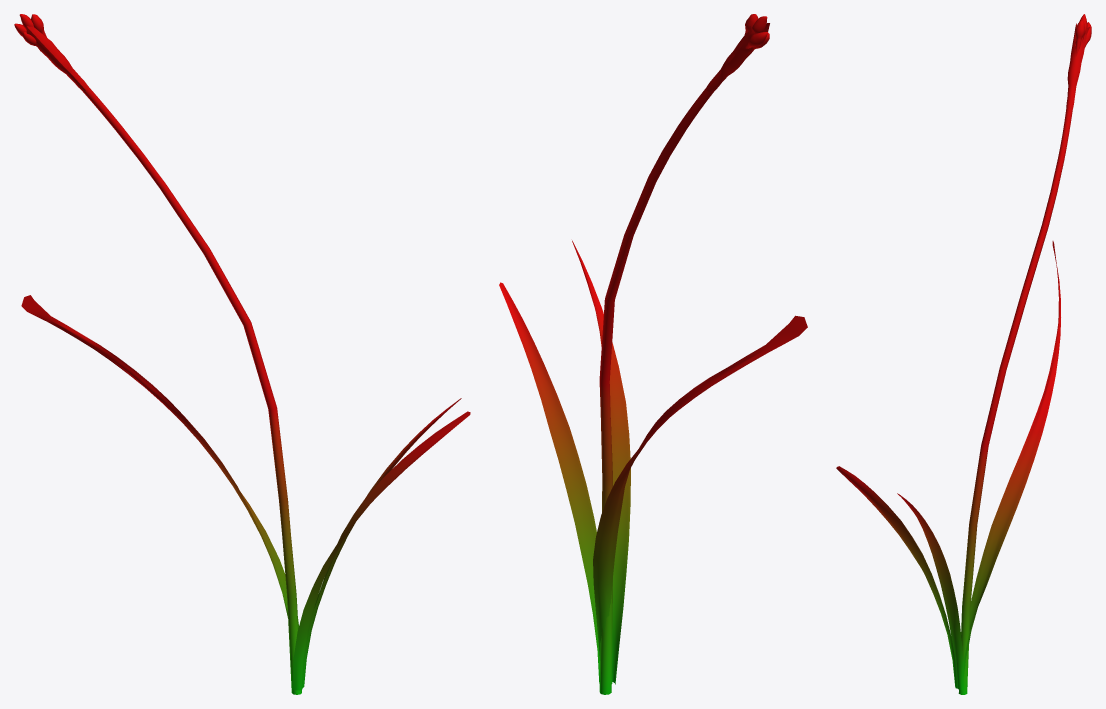
Rendered from Rush Daffodil_LOD0_Var26_wftgfjaia.fbx.
3 renders of one model, left to right at view 1: azimuth 30°, elevation 25°; view 2: azimuth 150°, elevation 25°; view 3: azimuth 270°, elevation 25°, orthographic. The views are drawn at different scales.
Visible parts, largest first — view 1: _sg89_var26_LOD0; view 2: _sg89_var26_LOD0; view 3: _sg89_var26_LOD0.
Boxes of the visible parts, bbox=[...] form: _sg89_var26_LOD0: bbox=[14, 14, 470, 694]; _sg89_var26_LOD0: bbox=[499, 14, 807, 694]; _sg89_var26_LOD0: bbox=[836, 14, 1091, 694].
Bounding box in the file's own units: 18.13 × 33.43 × 13.09.
